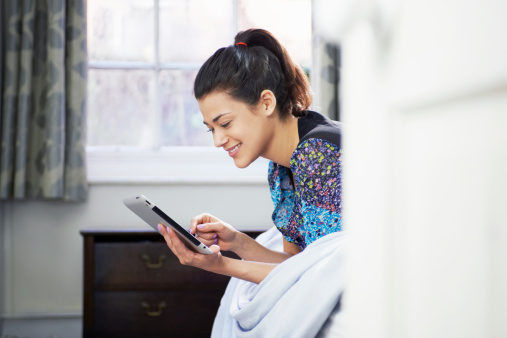deitado: (158, 29, 369, 338)
